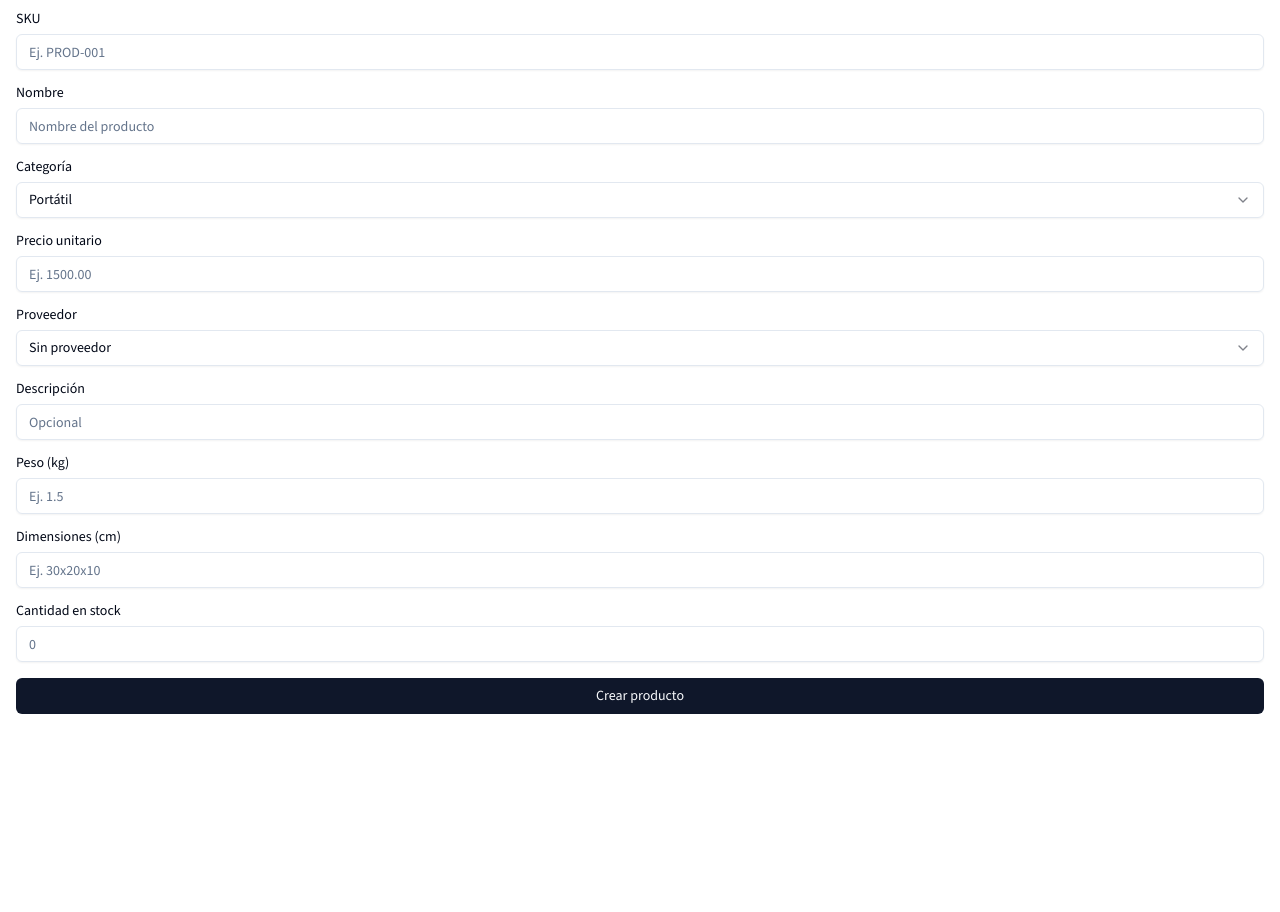
it: ProductForm — validation › shows error when sku is empty on submit
Type "My Product" into the field with placeholder "Nombre del producto". click: (640, 126)
box: x1=16 y1=108 x2=1264 y2=144
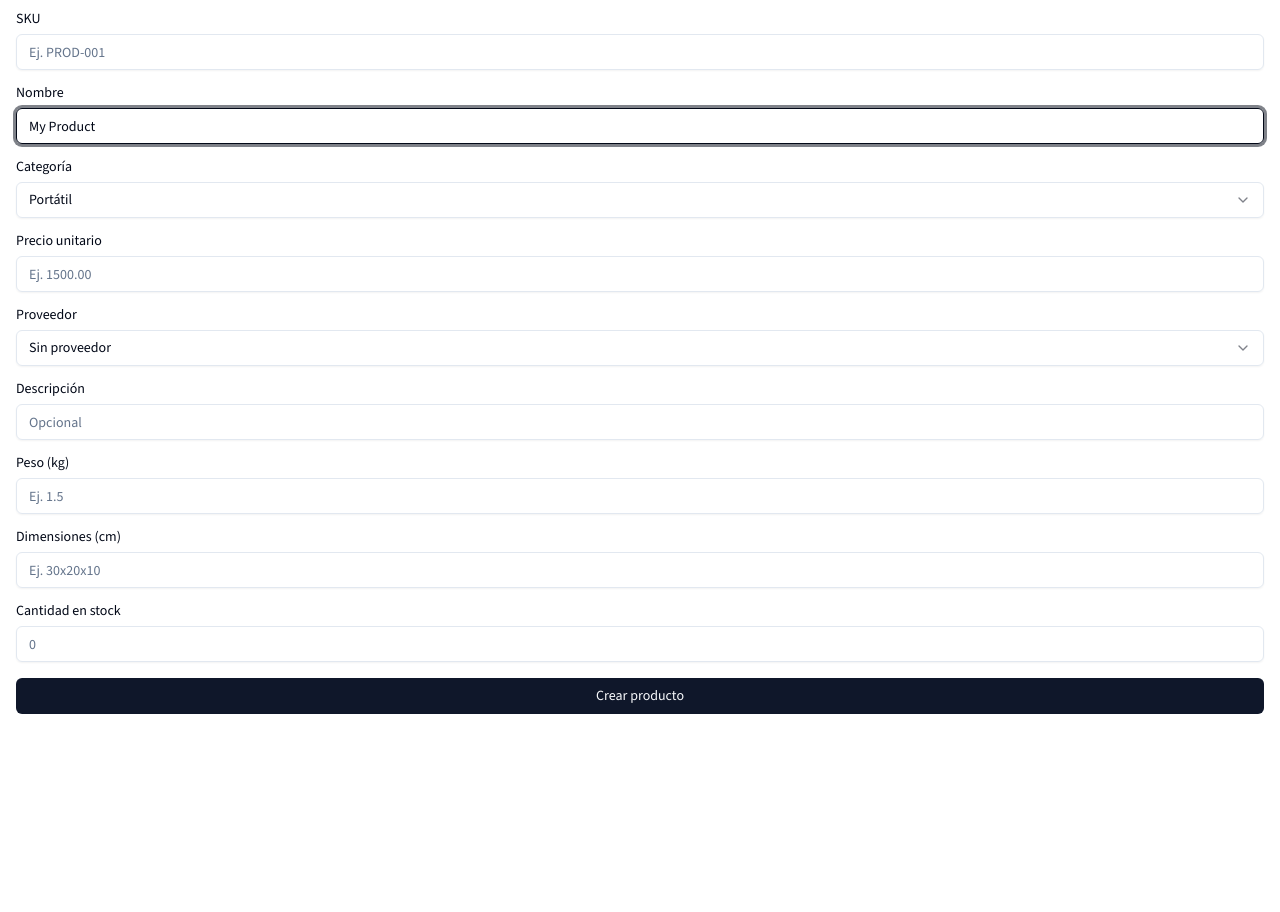
Type "100.00" into the field with placeholder "Ej. 1500.00". click: (640, 274)
box: x1=16 y1=256 x2=1264 y2=292
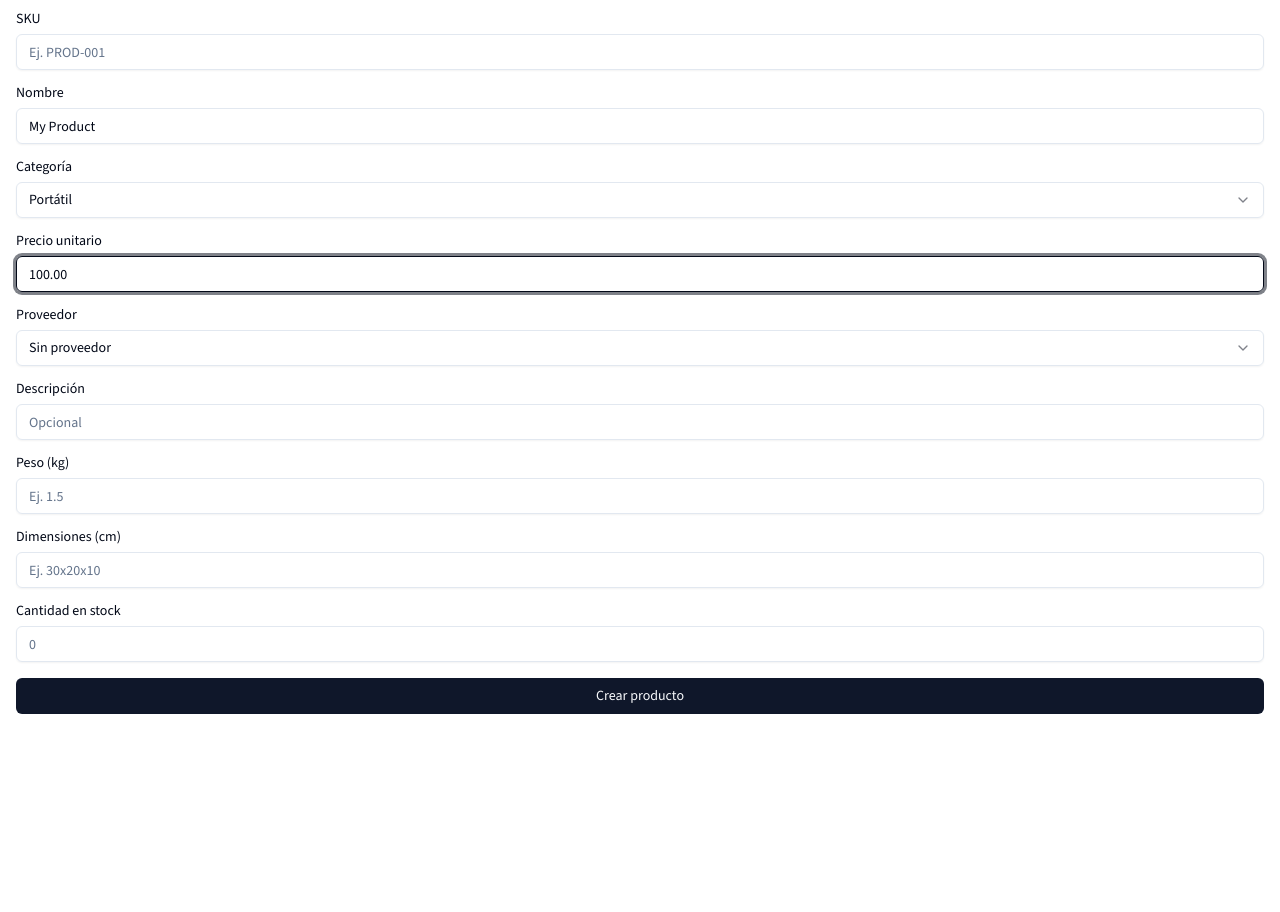
Click the button "Crear producto". click: (640, 696)
box: x1=16 y1=678 x2=1264 y2=714
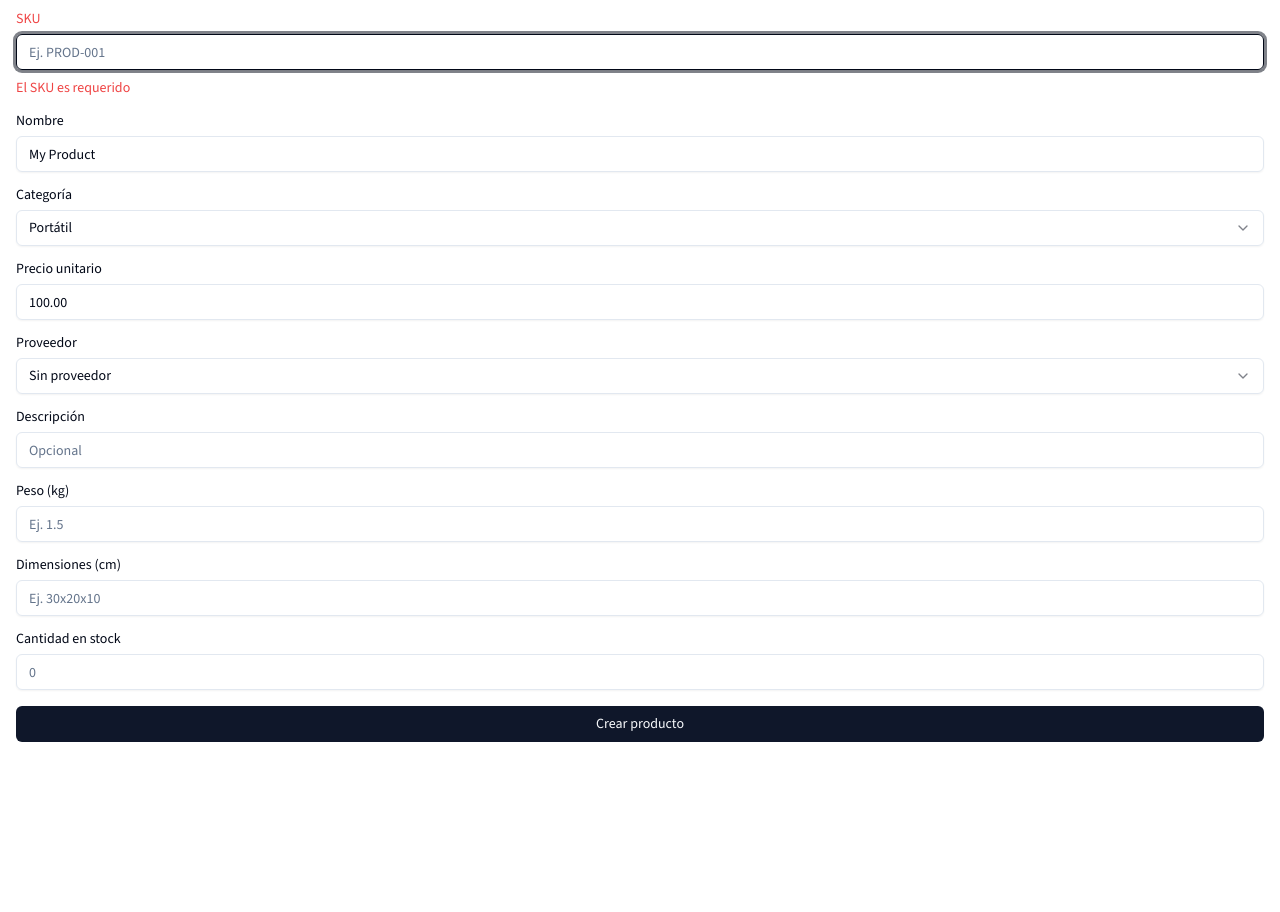
Now the text "El SKU es requerido" is shown, box x1=16 y1=78 x2=130 y2=97
